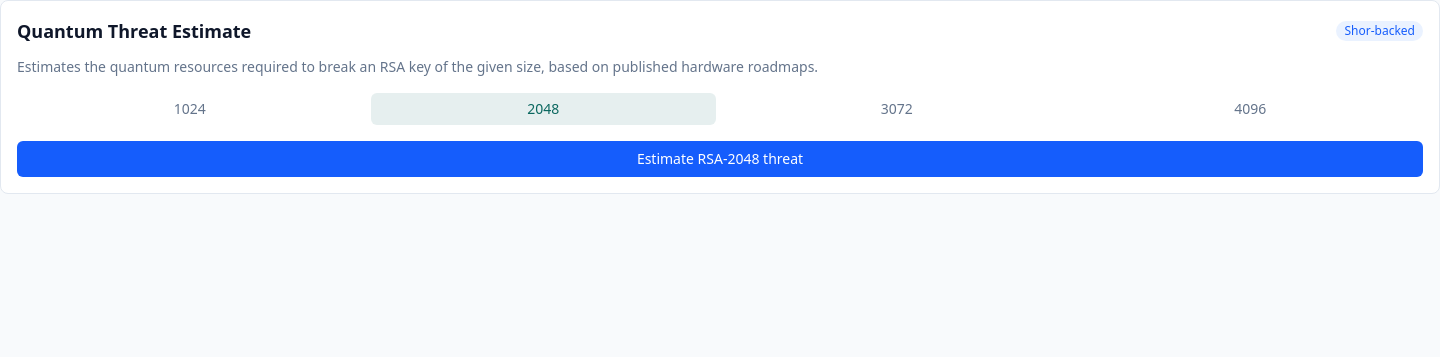
Scenario: QuantumThreatPanel › shows CRITICAL urgency for near-term breakable keys
Click the button "1024" at (190, 109), box [17,93,362,125]
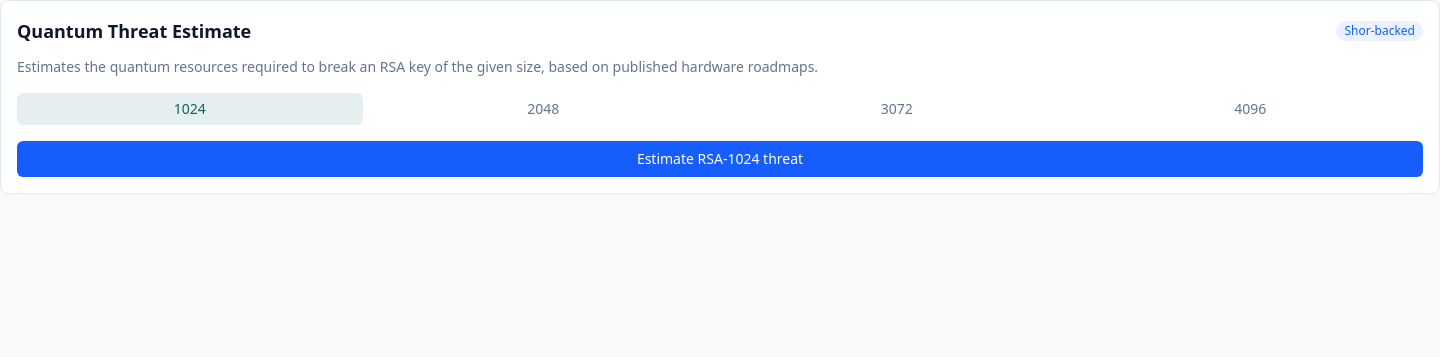
Click the button "Estimate RSA-1024 threat" at (720, 159), box [17,141,1423,177]
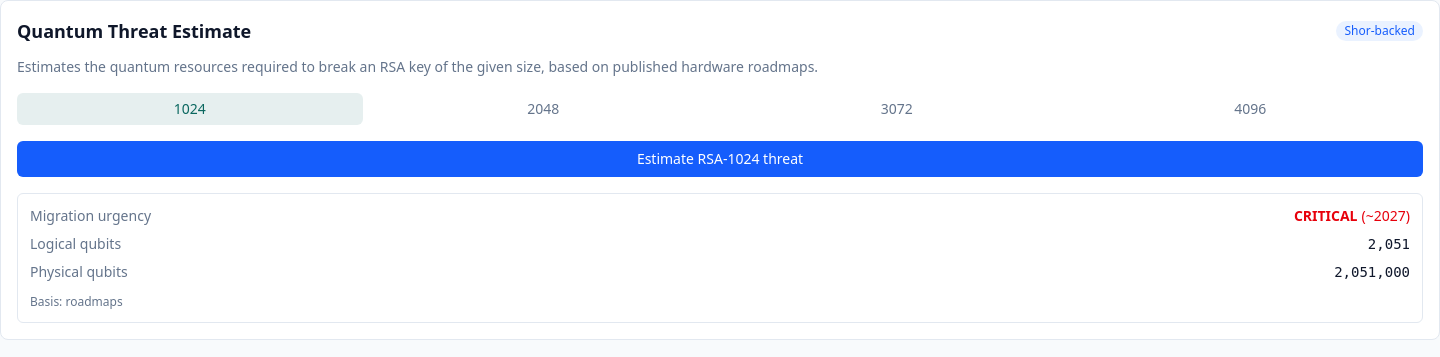
Result: the text "CRITICAL" is shown at [1294,206,1358,225]
Result: the text "(~2027)" is shown at [1362,206,1410,225]
